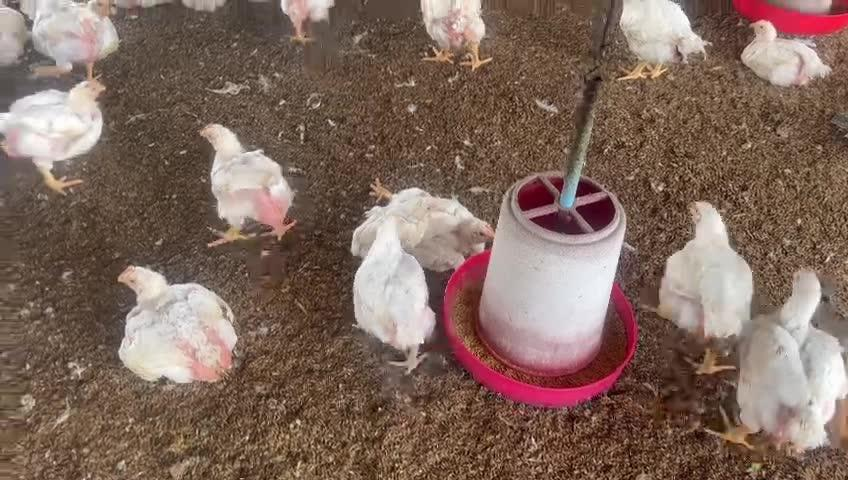AbNormal: (117, 266, 234, 384), (377, 185, 493, 268), (740, 18, 828, 86), (352, 197, 437, 264)
Normal: (711, 266, 844, 444), (661, 199, 751, 374), (0, 75, 107, 197), (352, 213, 434, 372), (198, 121, 295, 246), (616, 0, 709, 81), (28, 1, 115, 80), (422, 0, 491, 68), (273, 0, 343, 45)
